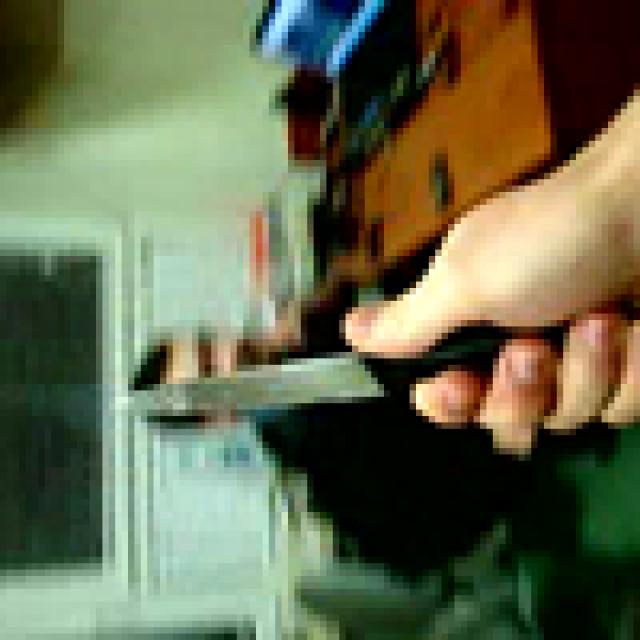Knife: (115, 314, 621, 442)
